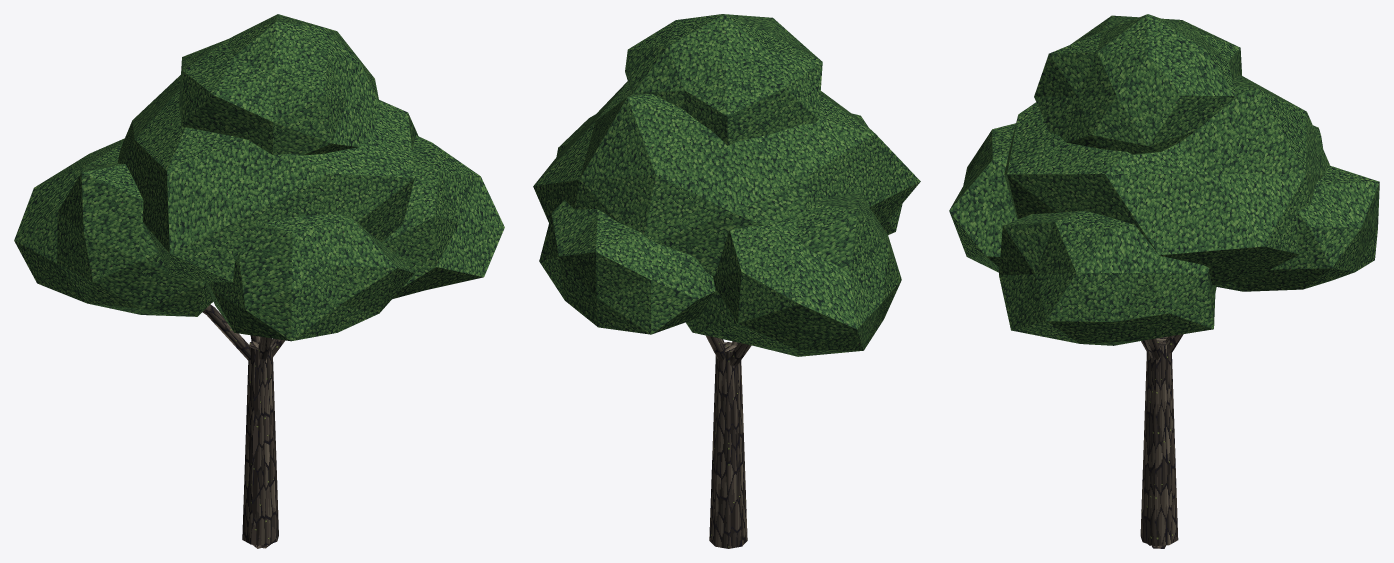
The model's file is VG_Tree_DeciduousLarge.obj.
3 views of the same model, side by side, from view 1: azimuth 30°, elevation 25°; view 2: azimuth 150°, elevation 25°; view 3: azimuth 270°, elevation 25° (orthographic). The views are drawn at different scales.
Parts seen in each view (by area): view 1: VG_Tree_DeciduousLarge_Mesh_M_Grnd_HedgeFoliage, VG_Tree_DeciduousLarge_Mesh_M_Grnd_TreeBark; view 2: VG_Tree_DeciduousLarge_Mesh_M_Grnd_HedgeFoliage, VG_Tree_DeciduousLarge_Mesh_M_Grnd_TreeBark; view 3: VG_Tree_DeciduousLarge_Mesh_M_Grnd_HedgeFoliage, VG_Tree_DeciduousLarge_Mesh_M_Grnd_TreeBark.
Boxes of the visible parts, <box> form: VG_Tree_DeciduousLarge_Mesh_M_Grnd_HedgeFoliage: <box>14,14,504,341</box>; VG_Tree_DeciduousLarge_Mesh_M_Grnd_TreeBark: <box>202,304,285,548</box>; VG_Tree_DeciduousLarge_Mesh_M_Grnd_HedgeFoliage: <box>533,14,920,356</box>; VG_Tree_DeciduousLarge_Mesh_M_Grnd_TreeBark: <box>706,335,751,548</box>; VG_Tree_DeciduousLarge_Mesh_M_Grnd_HedgeFoliage: <box>949,14,1379,345</box>; VG_Tree_DeciduousLarge_Mesh_M_Grnd_TreeBark: <box>1140,334,1183,548</box>.
Bounding box in the file's own units: 7.8 × 10.35 × 7.53.
Materials: 2 (2 with a texture image).
